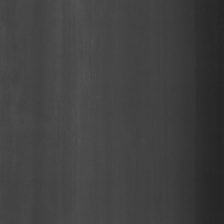silk_spot: (60, 13, 95, 54)
